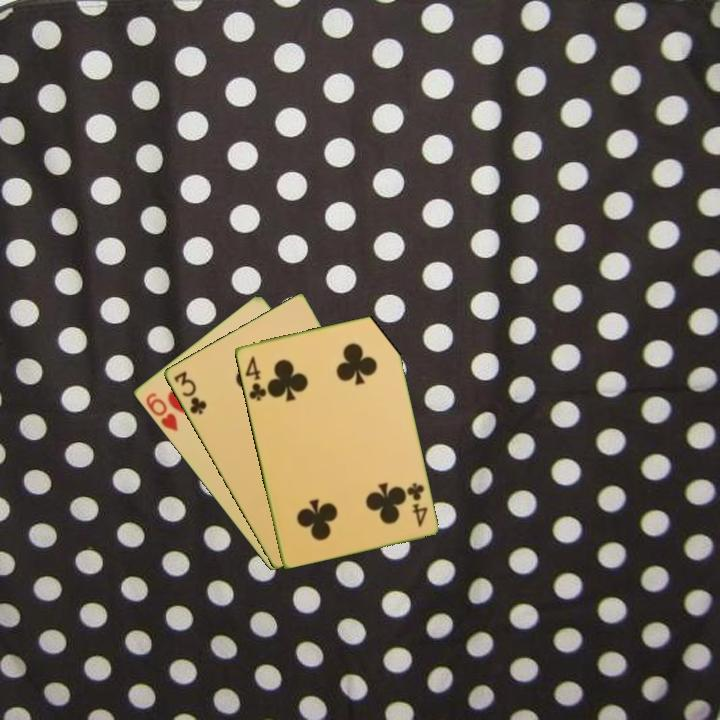3c: (170, 367, 209, 418)
4c: (241, 352, 269, 403), (403, 479, 430, 529)
6h: (142, 389, 181, 434)
